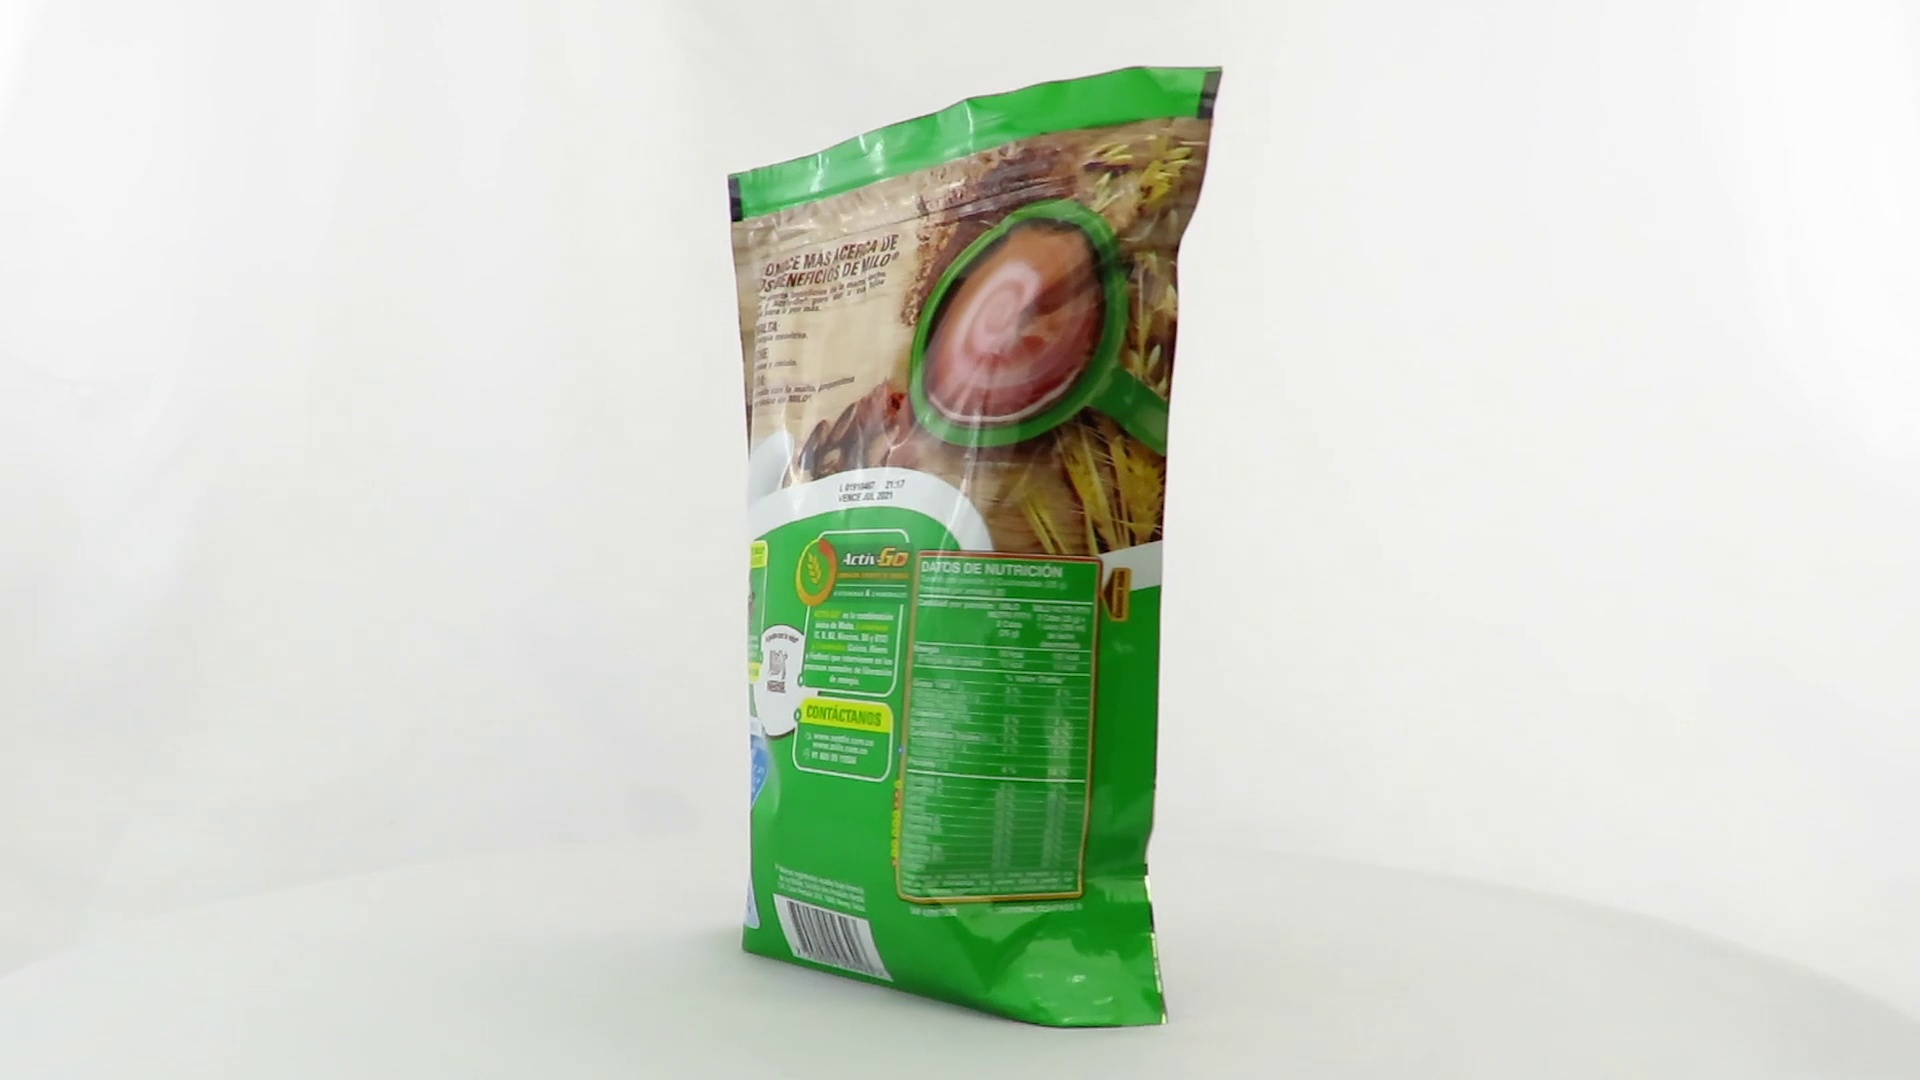COL0170205DYP50000: (723, 61, 1229, 1035)
